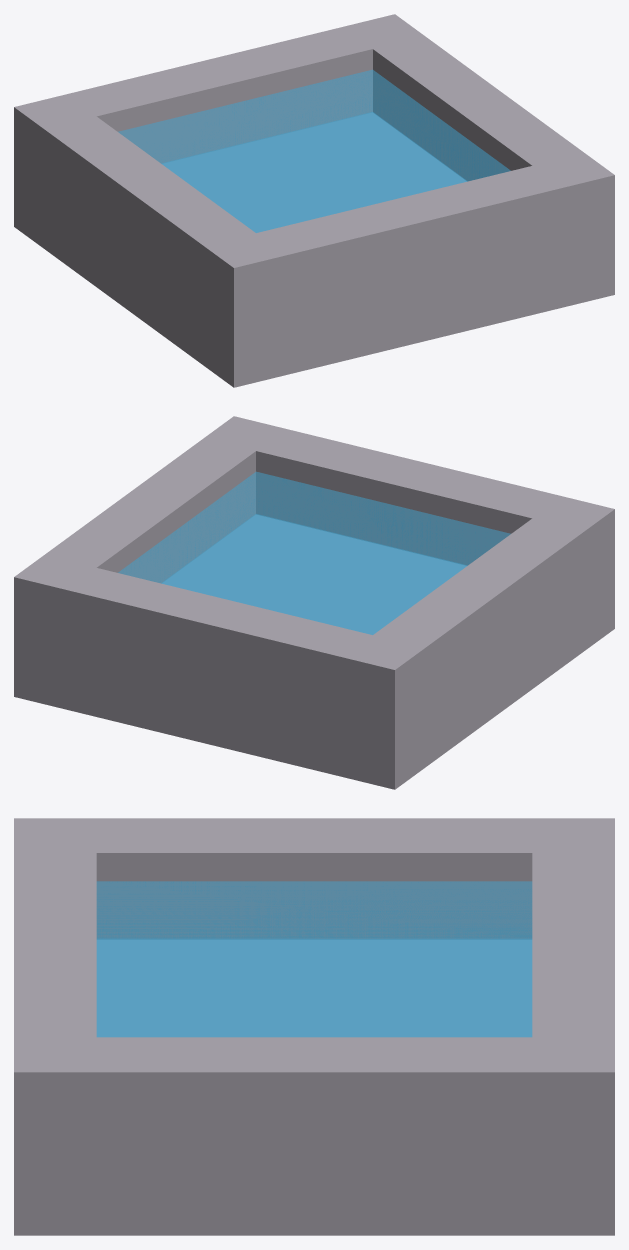
Rendered from water_Tank.glb.
3 renders of one model, top to bottom at view 1: azimuth 30°, elevation 25°; view 2: azimuth 150°, elevation 25°; view 3: azimuth 270°, elevation 25°, orthographic. The views are drawn at different scales.
Visible parts, largest first — view 1: Cube, water; view 2: Cube, water; view 3: Cube, water.
Boxes of the visible parts, box(x1,y1,x2,y2) form: Cube: box(14, 14, 614, 387); water: box(118, 69, 510, 232); Cube: box(14, 416, 614, 789); water: box(118, 471, 510, 634); Cube: box(14, 818, 614, 1235); water: box(96, 881, 532, 1037).
Size of the model in its own units: 8 by 2.4 by 8.
